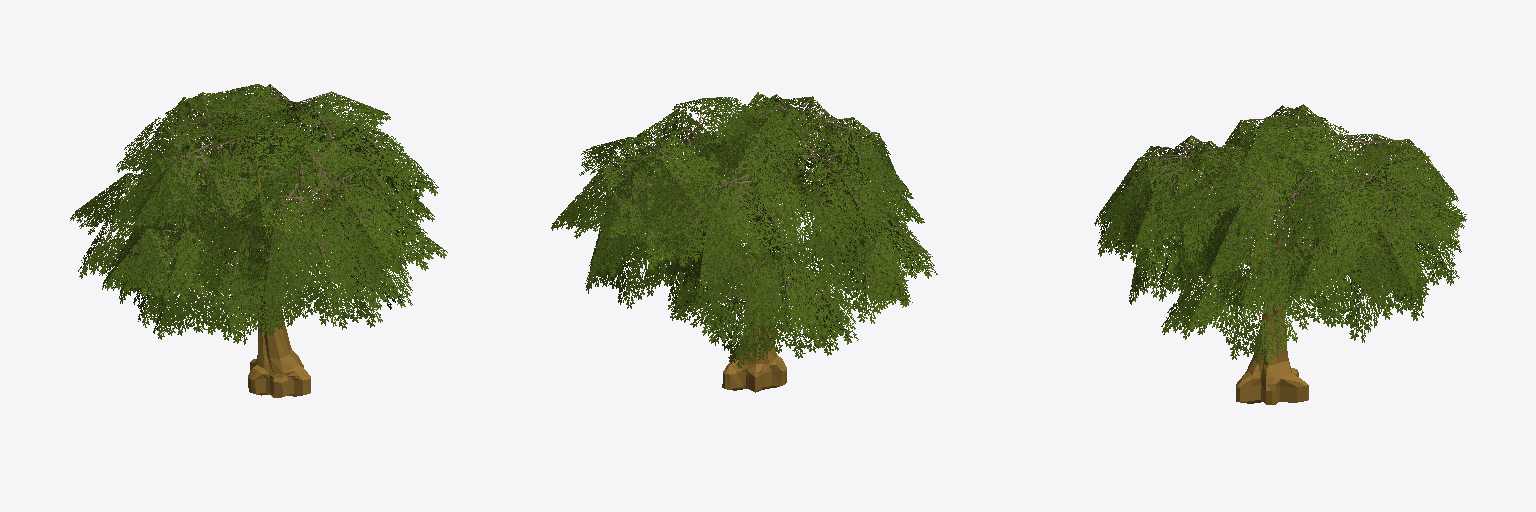
3 views of the same model, side by side, from view 1: azimuth 30°, elevation 25°; view 2: azimuth 150°, elevation 25°; view 3: azimuth 270°, elevation 25° (orthographic).
Visible parts, largest first — view 1: Plane.1000_Plane.024, tree_generic_001.002_generic_001.002; view 2: Plane.1000_Plane.024, tree_generic_001.002_generic_001.002; view 3: Plane.1000_Plane.024, tree_generic_001.002_generic_001.002.
Part boxes in pixels (x1,y1,x2,y2): Plane.1000_Plane.024: (70, 84, 447, 344); tree_generic_001.002_generic_001.002: (181, 138, 337, 397); Plane.1000_Plane.024: (551, 92, 937, 368); tree_generic_001.002_generic_001.002: (684, 137, 831, 392); Plane.1000_Plane.024: (1094, 104, 1466, 364); tree_generic_001.002_generic_001.002: (1195, 173, 1366, 404).
Size of the model in its own units: 11.17 by 8.55 by 11.26.
2 materials, 1 textured.